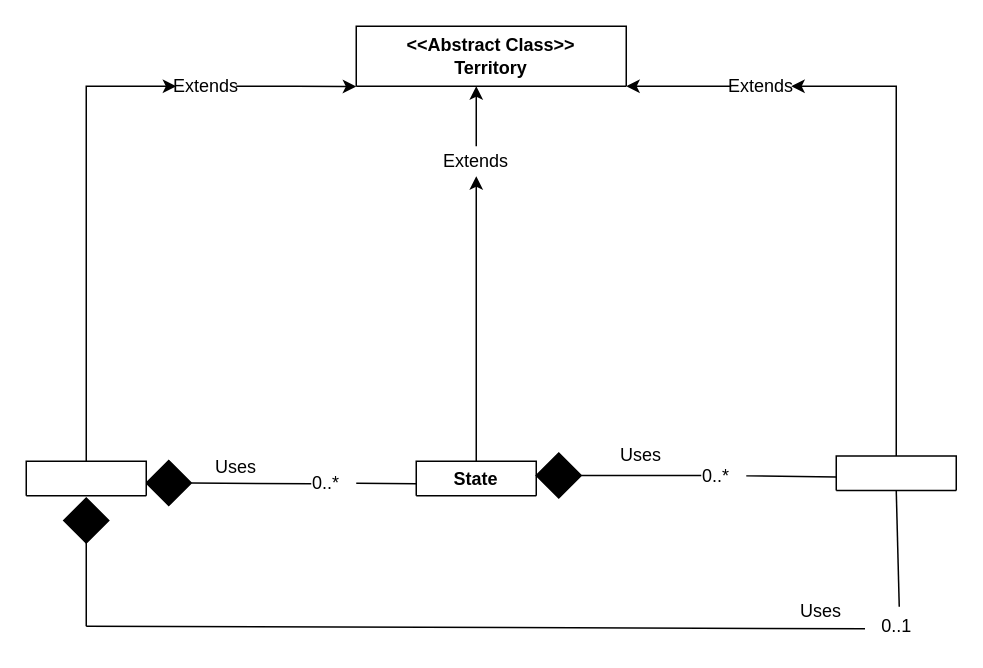
Image size: 983x668. Some labels were removed from this diagram. Here are the shapes that lost their labels. From the top down, the centre of each, then its label:
At (x=85, y=478): "Country".
At (x=895, y=472): "City".
